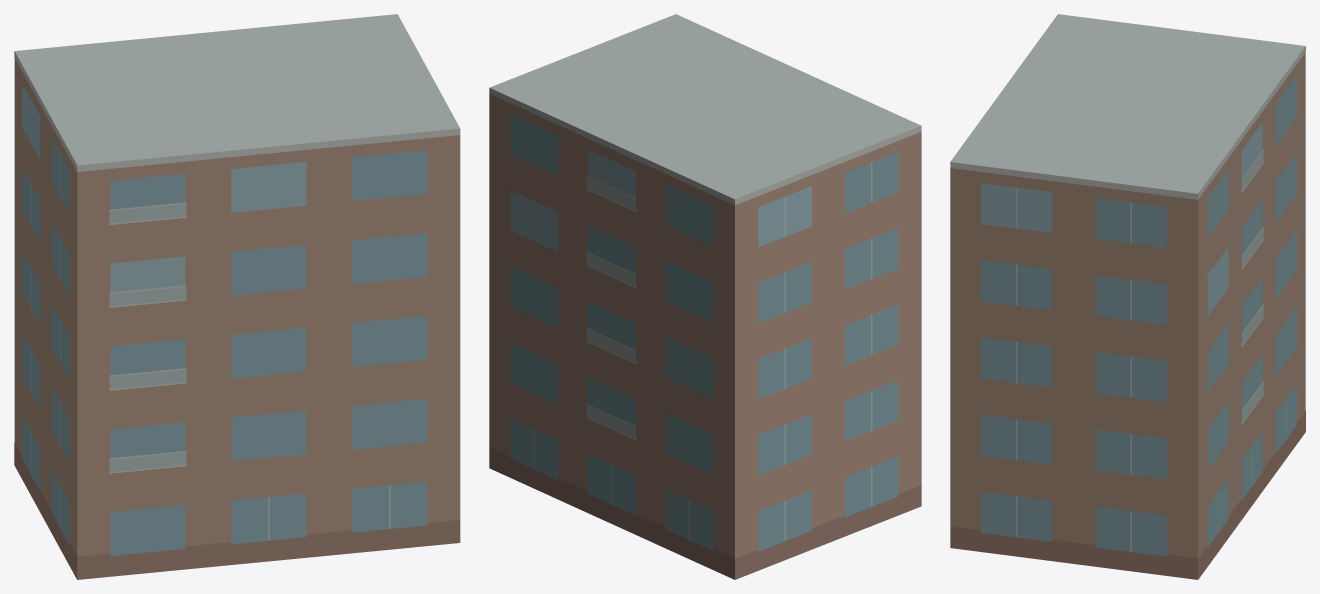
The model's file is survey-upis-32710233.glb.
3 renders of one model, left to right at view 1: azimuth 30°, elevation 25°; view 2: azimuth 150°, elevation 25°; view 3: azimuth 270°, elevation 25°, orthographic. The views are drawn at different scales.
Visible parts, largest first — view 1: survey-upis-32710233.tmp; view 2: survey-upis-32710233.tmp; view 3: survey-upis-32710233.tmp.
Part boxes in pixels (x1,y1,x2,y2): survey-upis-32710233.tmp: [14, 14, 460, 579]; survey-upis-32710233.tmp: [489, 14, 921, 579]; survey-upis-32710233.tmp: [950, 14, 1305, 579].
Size of the model in its own units: 15.6 by 15.6 by 13.03.
